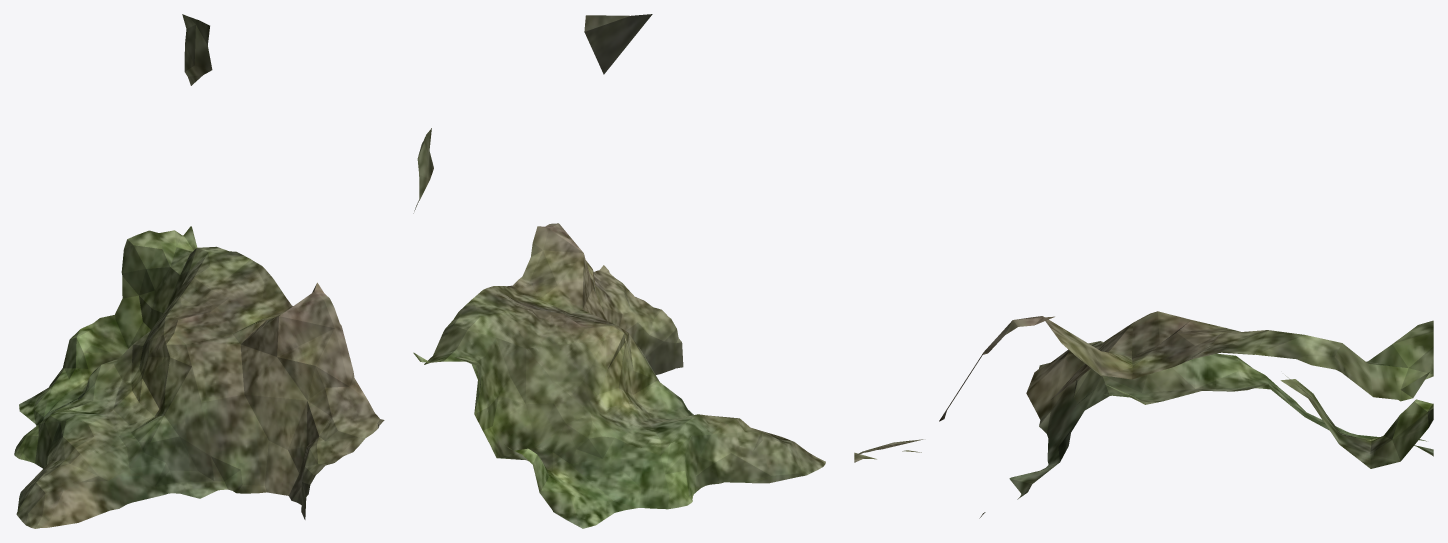
The picture shows the model from 3 angles, left to right: view 1: azimuth 30°, elevation 25°; view 2: azimuth 150°, elevation 25°; view 3: azimuth 270°, elevation 25°; orthographic projection. The views are drawn at different scales.
Size of the model in its own units: 2.56 by 2.95 by 2.95.
2 materials, 2 textured.
